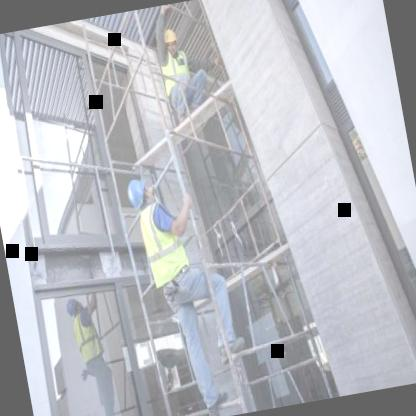helmet: (122, 173, 158, 214), (158, 22, 186, 60), (60, 292, 92, 320)
